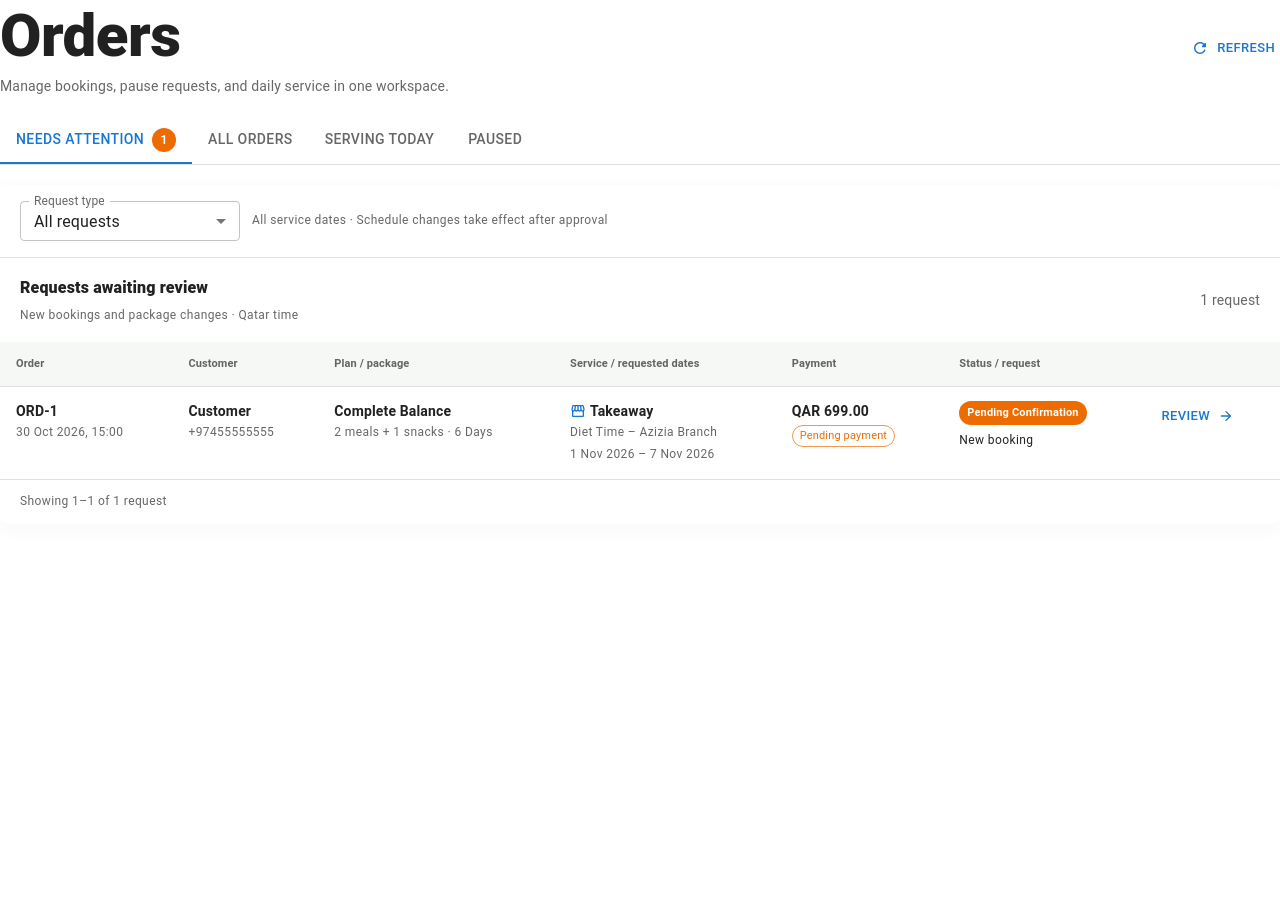
Test: Staff order review › records received payment with a receipt reference without approving a pending order
This screenshot has width=1280, height=900.
Click the button "Review" at [1197, 416], box [1156, 401, 1237, 432]
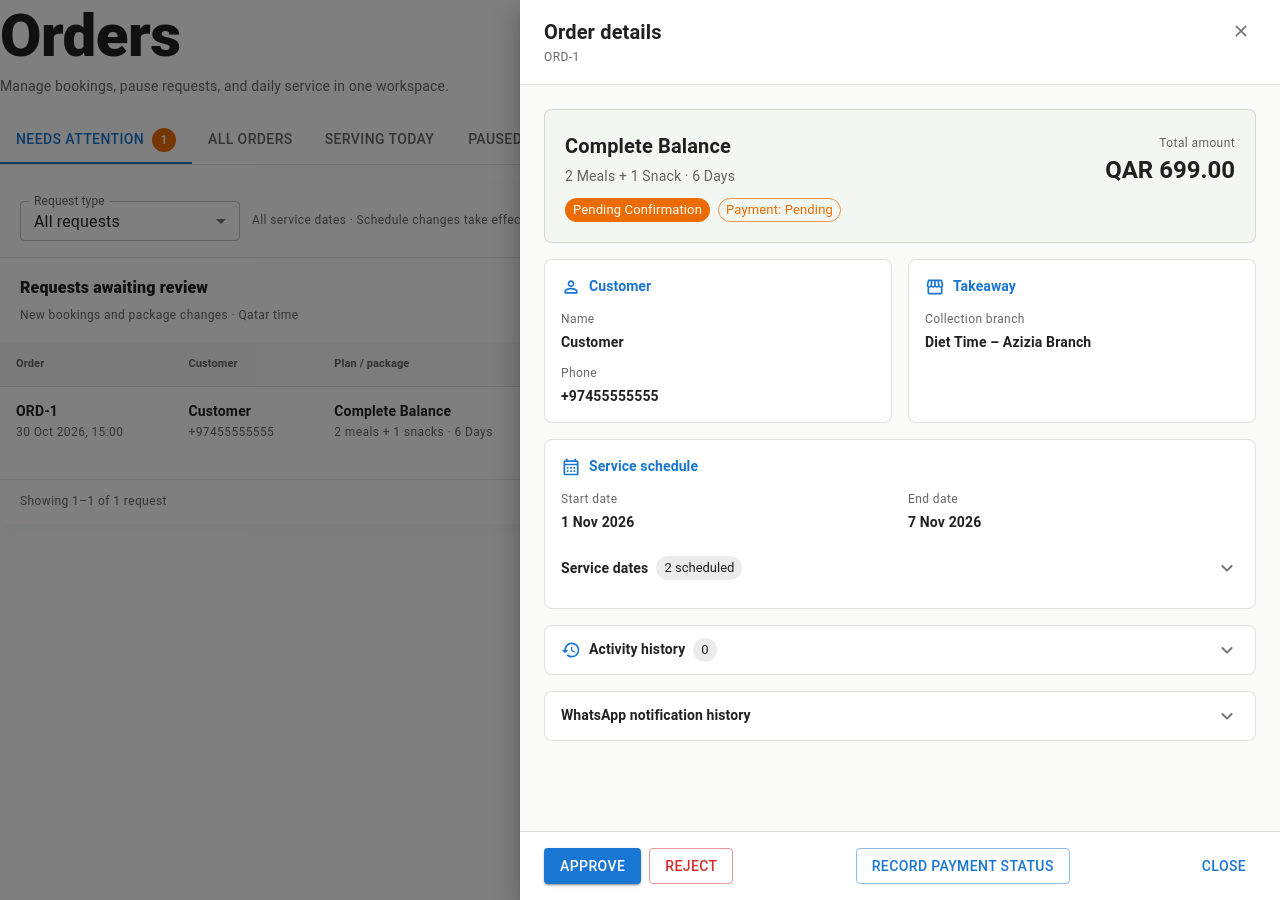
Click the button "Record Payment Status" at [963, 866], box [856, 848, 1070, 884]
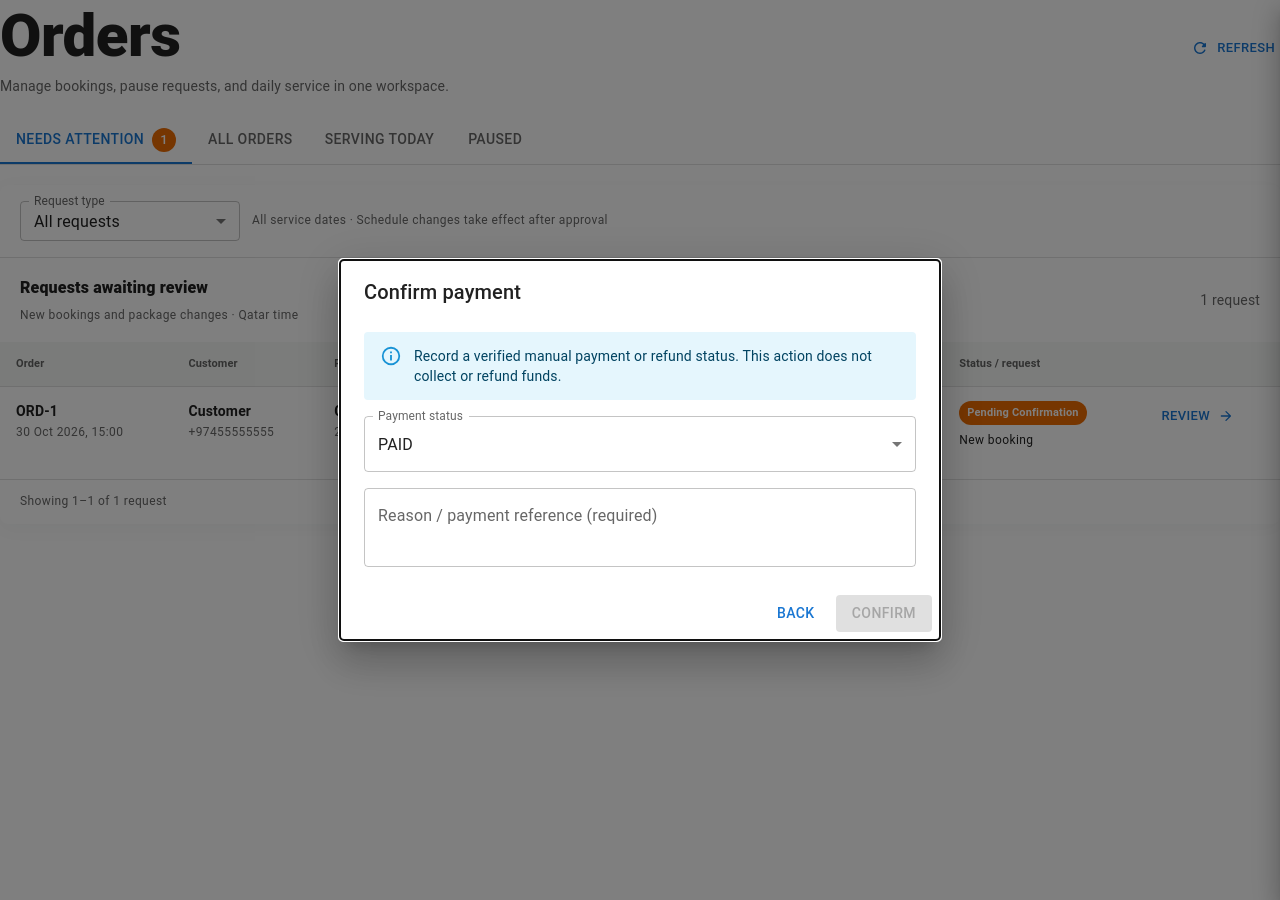
Expected: the button "Confirm" is disabled, [836, 595, 932, 632]
Type "Cash receipt 123" into the text box labelled "Reason / payment reference (required)" at [640, 528], box [378, 505, 902, 551]
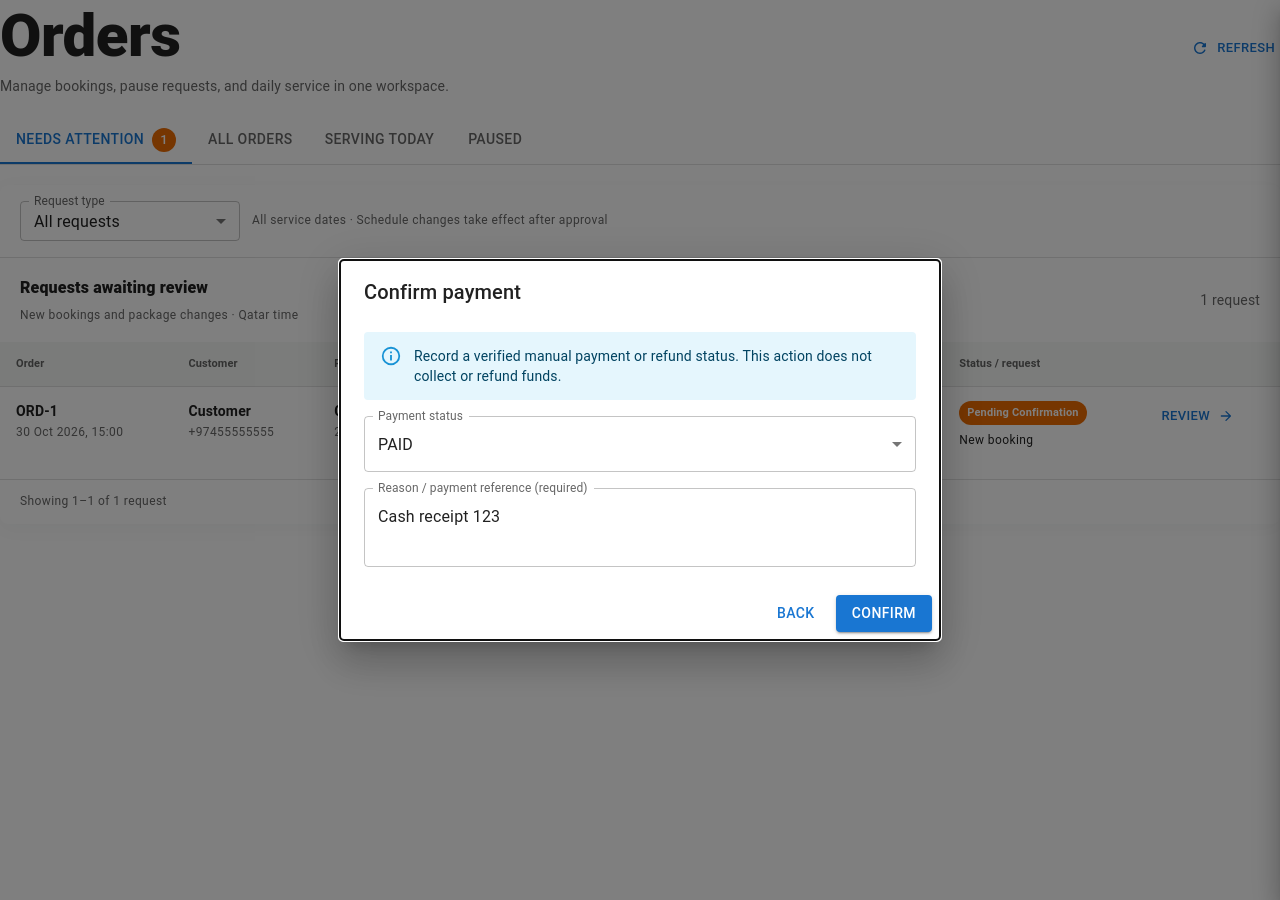
Click the button "Confirm" at [884, 614], box [836, 595, 932, 632]
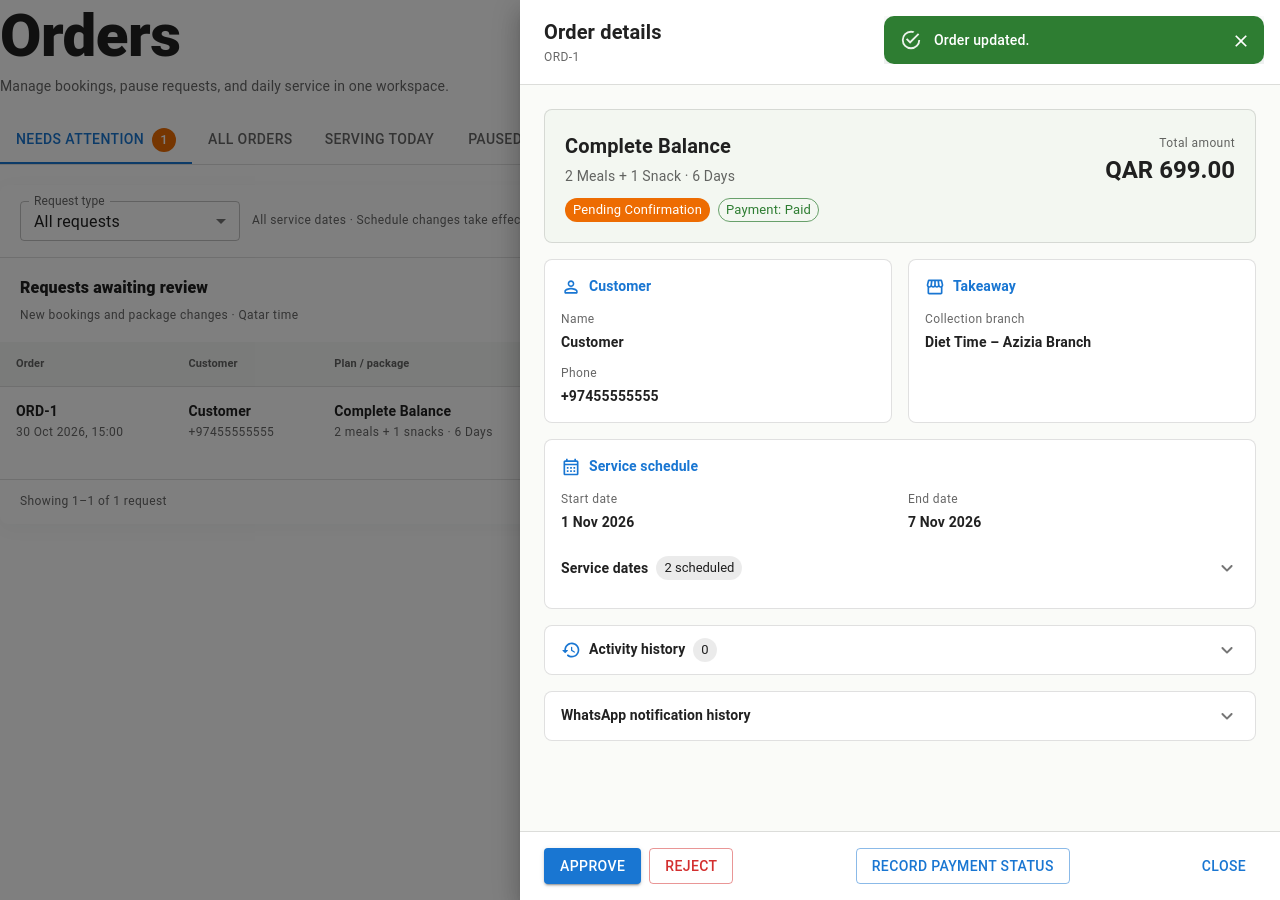
Expected: the text "Pending Confirmation" is shown, [565, 200, 710, 220]
Expected: the text "Payment: Paid" is shown, [719, 200, 818, 220]
